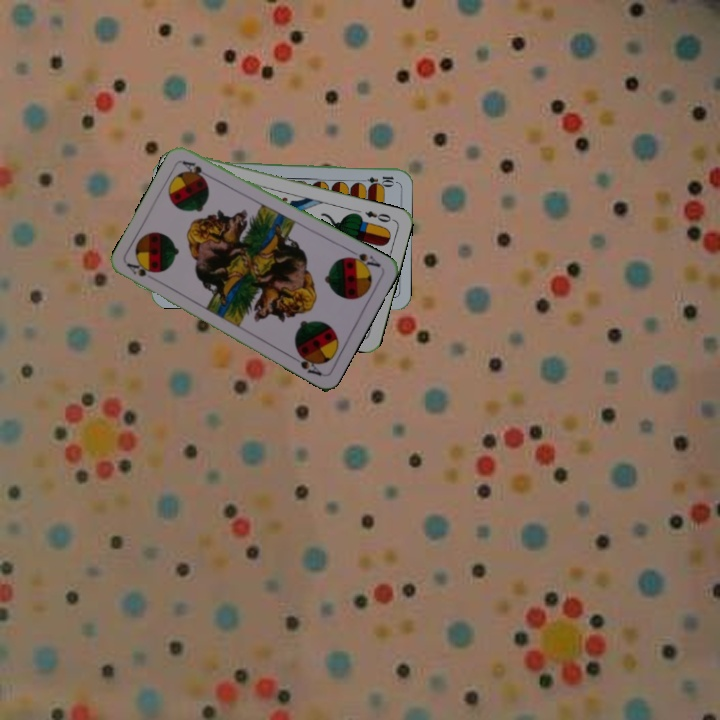E10: (356, 172, 396, 186)
EO: (361, 206, 397, 225)
SA: (343, 246, 383, 272), (123, 259, 153, 279)
